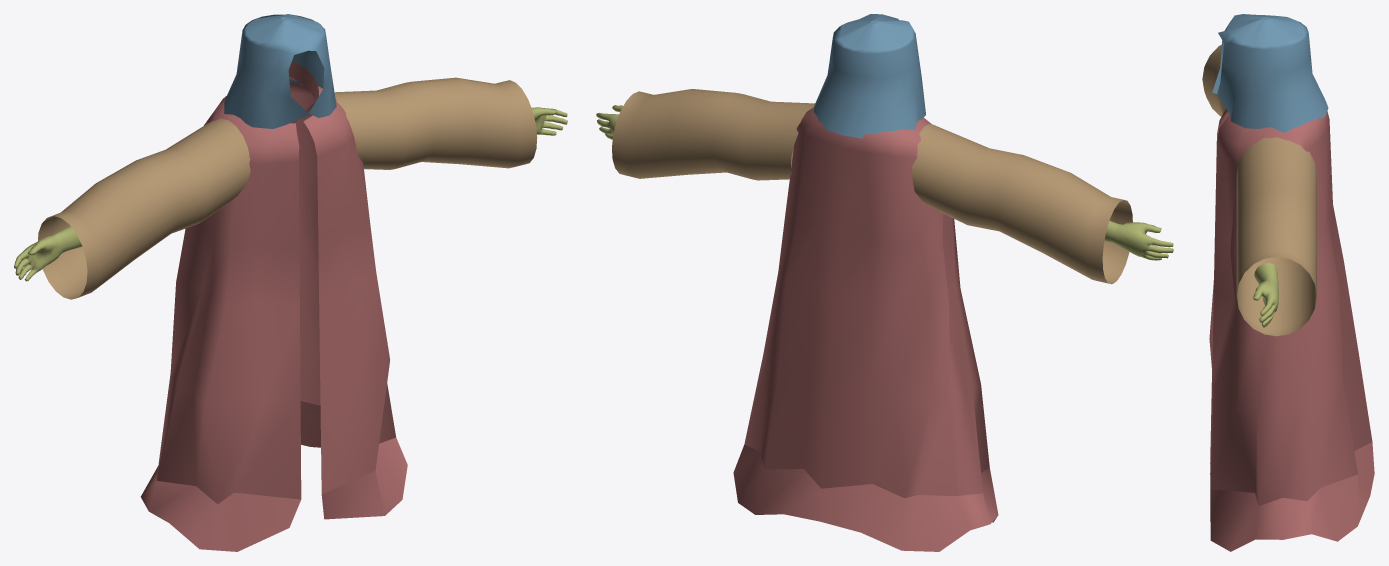
File: Annubis_Sub.fbx
The picture shows the model from 3 angles, left to right: view 1: azimuth 30°, elevation 25°; view 2: azimuth 150°, elevation 25°; view 3: azimuth 270°, elevation 25°; orthographic projection.
Visible parts, largest first — view 1: Cloak, L_Sleeve, R_Sleeve, Top_Cloak, L_hand, R_Hand; view 2: Cloak, L_Sleeve, R_Sleeve, Top_Cloak, L_hand; view 3: Cloak, R_Sleeve, Top_Cloak, R_Hand, L_Sleeve.
Boxes of the visible parts, x1=… form: Cloak: x1=140, y1=61, x2=407, y2=551; L_Sleeve: x1=37, y1=118, x2=250, y2=299; R_Sleeve: x1=334, y1=77, x2=537, y2=169; Top_Cloak: x1=224, y1=14, x2=336, y2=128; L_hand: x1=14, y1=226, x2=82, y2=281; R_Hand: x1=531, y1=107, x2=567, y2=135; Cloak: x1=733, y1=107, x2=998, y2=551; L_Sleeve: x1=912, y1=124, x2=1132, y2=284; R_Sleeve: x1=612, y1=89, x2=814, y2=180; Top_Cloak: x1=814, y1=14, x2=925, y2=138; L_hand: x1=1104, y1=220, x2=1173, y2=260; Cloak: x1=1209, y1=109, x2=1374, y2=551; R_Sleeve: x1=1236, y1=137, x2=1316, y2=336; Top_Cloak: x1=1212, y1=14, x2=1328, y2=132; R_Hand: x1=1253, y1=263, x2=1278, y2=327; L_Sleeve: x1=1202, y1=44, x2=1225, y2=116.
Size of the model in its own units: 30.07 by 25.04 by 8.03.
